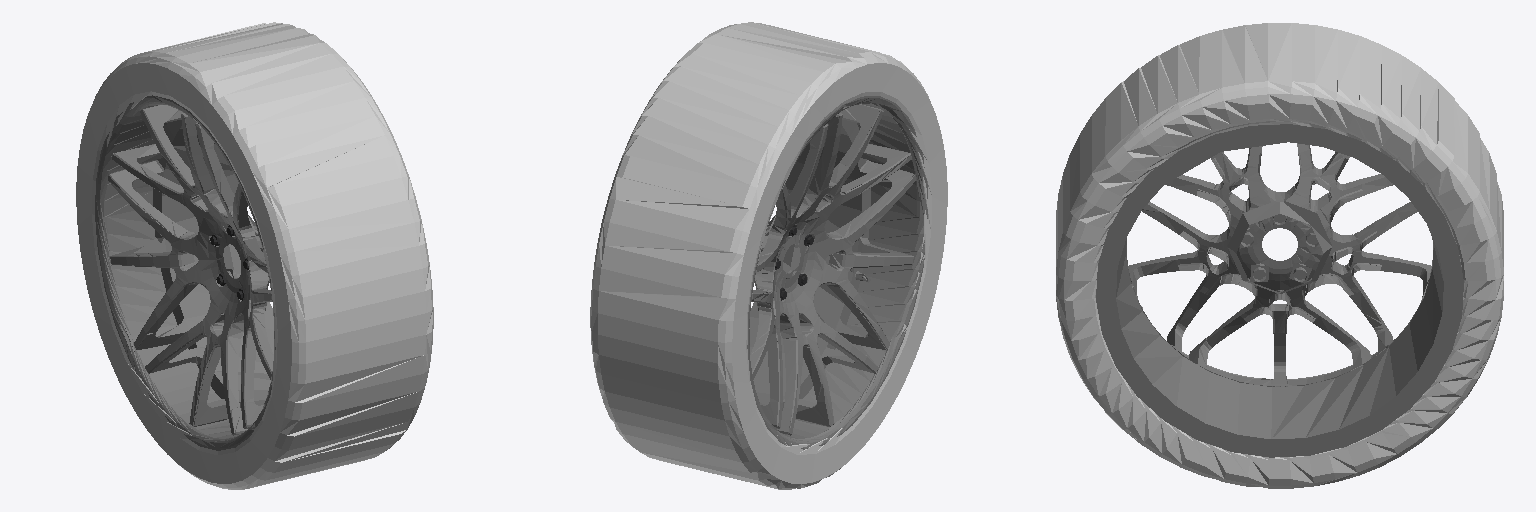
The model's file is llantaizq.obj.
The picture shows the model from 3 angles: view 1: azimuth 30°, elevation 25°; view 2: azimuth 150°, elevation 25°; view 3: azimuth 270°, elevation 25°; orthographic projection.
Parts seen in each view (by area): view 1: llantaizq; view 2: llantaizq; view 3: llantaizq.
Part boxes in pixels (x1,y1,x2,y2): llantaizq: (76, 22, 433, 489); llantaizq: (590, 22, 947, 489); llantaizq: (1056, 23, 1503, 488).
Bounding box in the file's own units: 6.1 × 16.47 × 16.47.